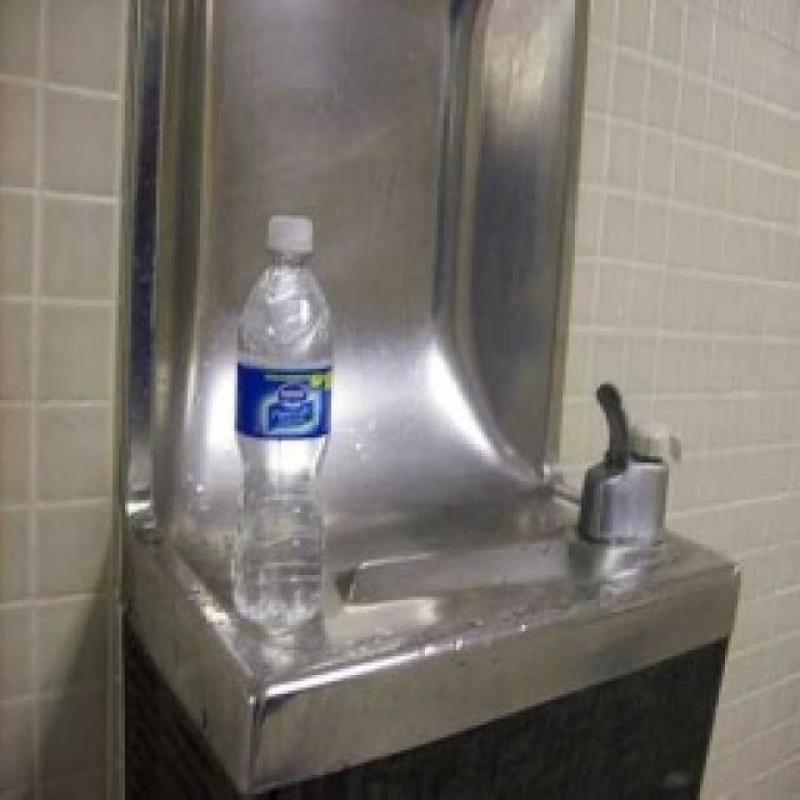botella: (240, 214, 332, 630)
